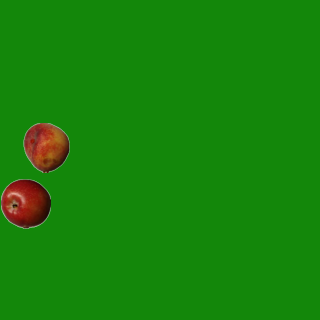Apple Braeburn: (0, 178, 50, 228)
Peach: (21, 122, 71, 172)
